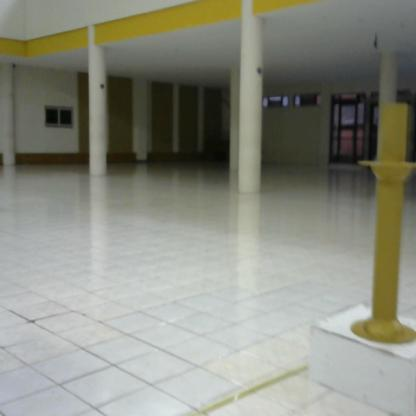pole: (346, 97, 416, 351)
